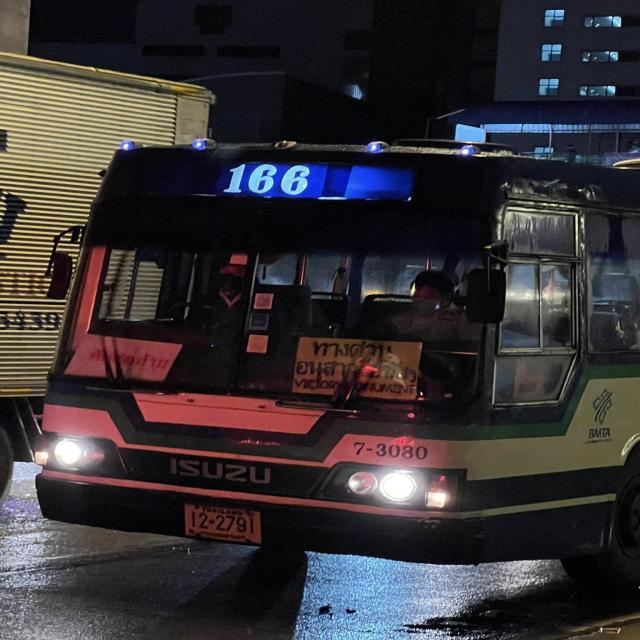BMTA-bus: (31, 131, 640, 595)
Bus-Line-Number: (216, 160, 324, 200)
Destination-Sign-Normal-Expressway: (288, 338, 423, 400)
